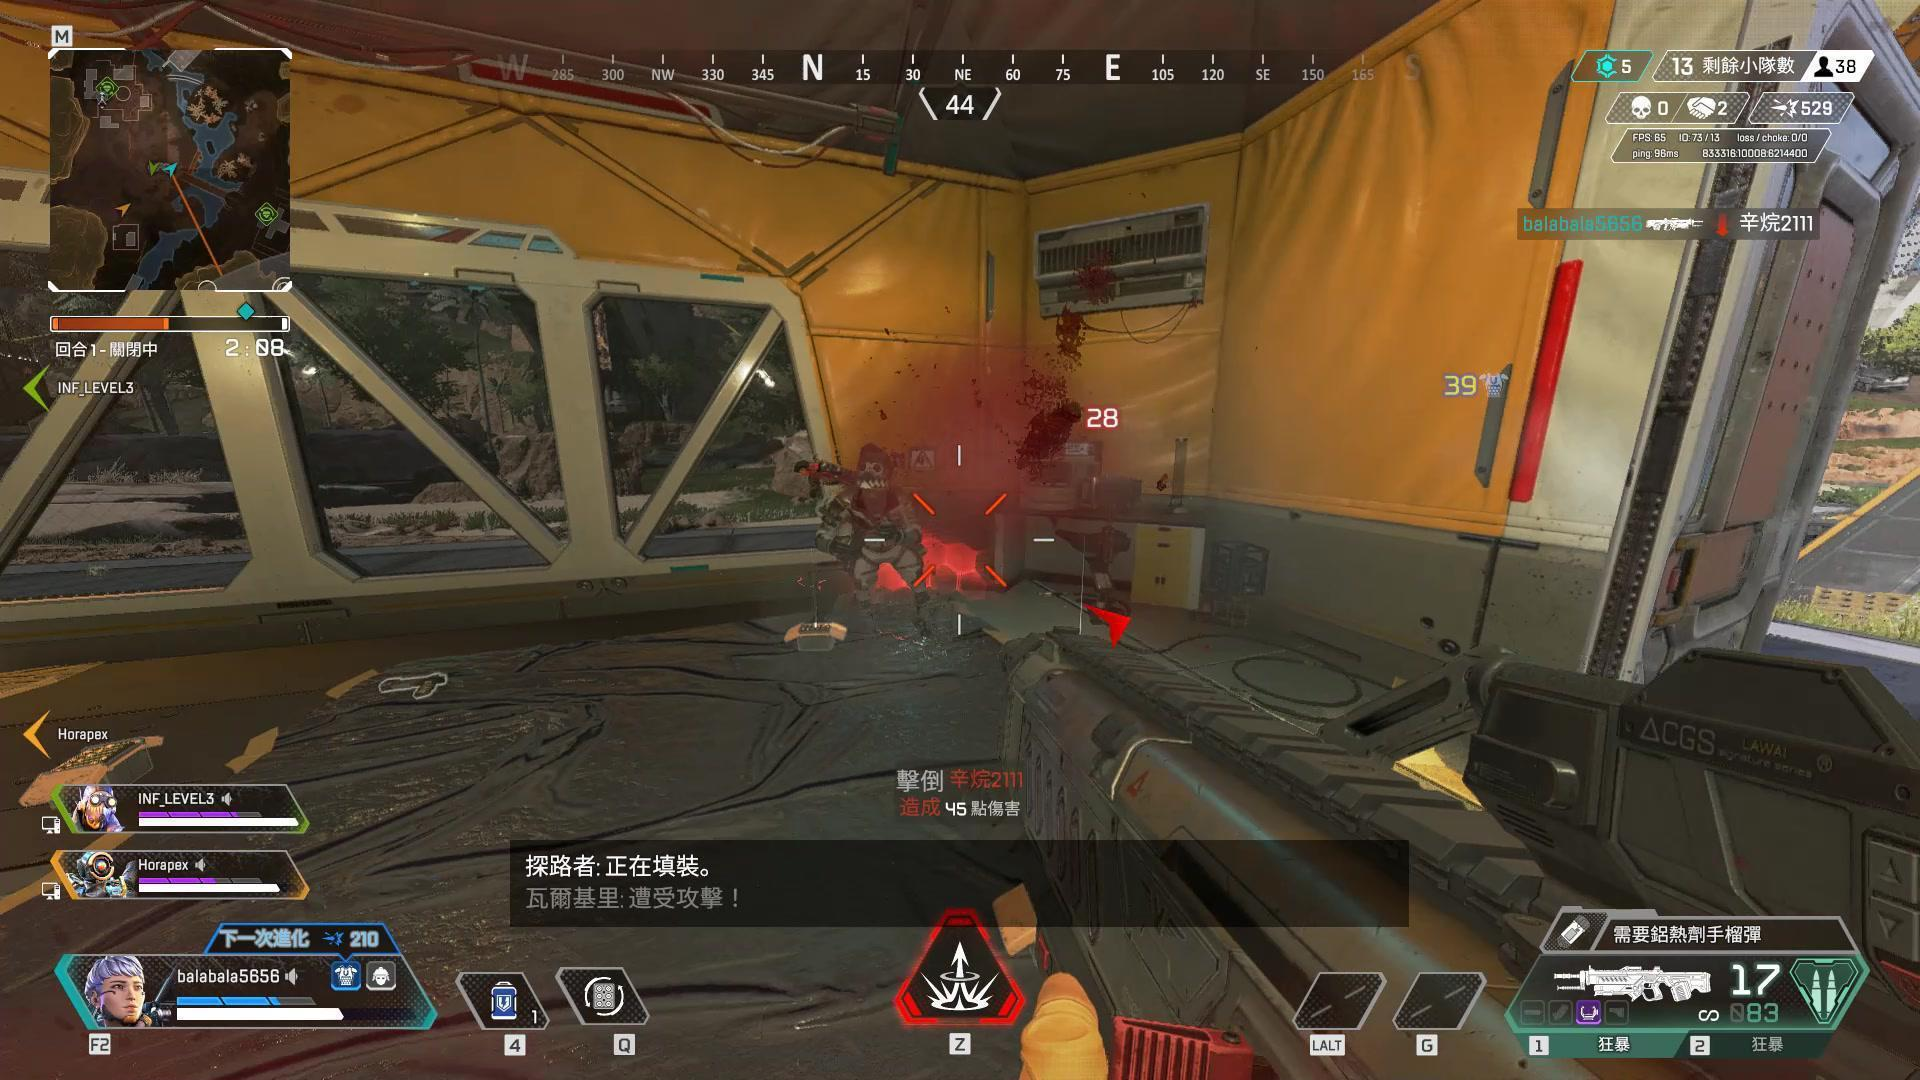avatar: (806, 437, 941, 650)
